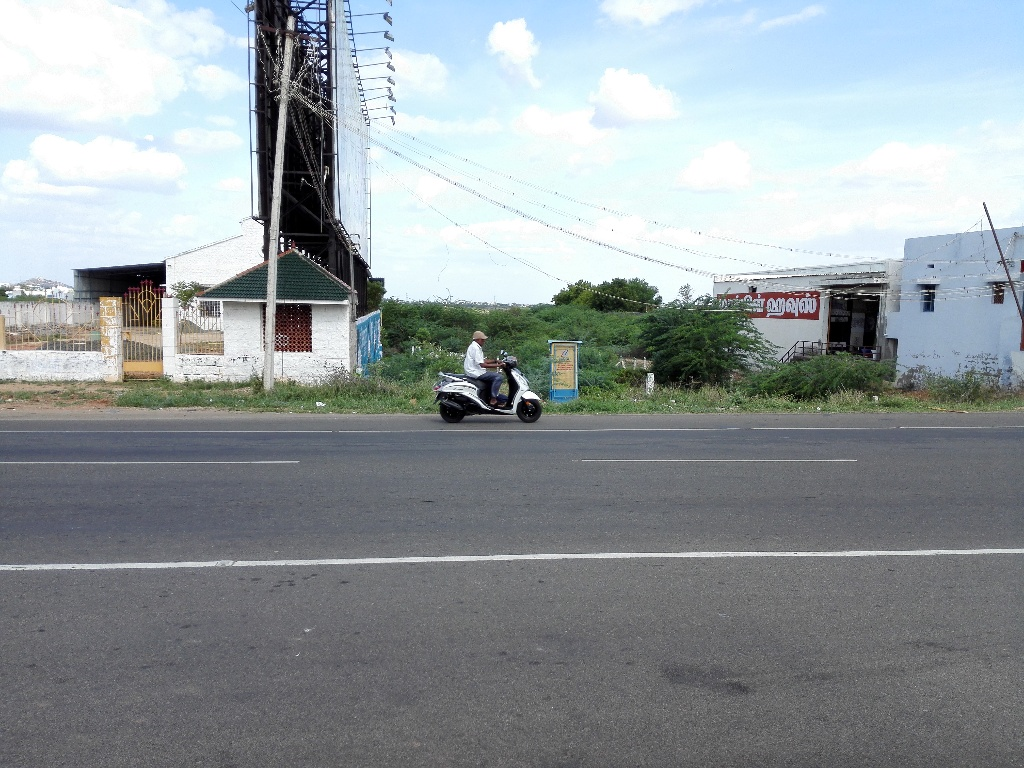biker: (425, 302, 553, 432)
nohelmet: (466, 322, 493, 352)
